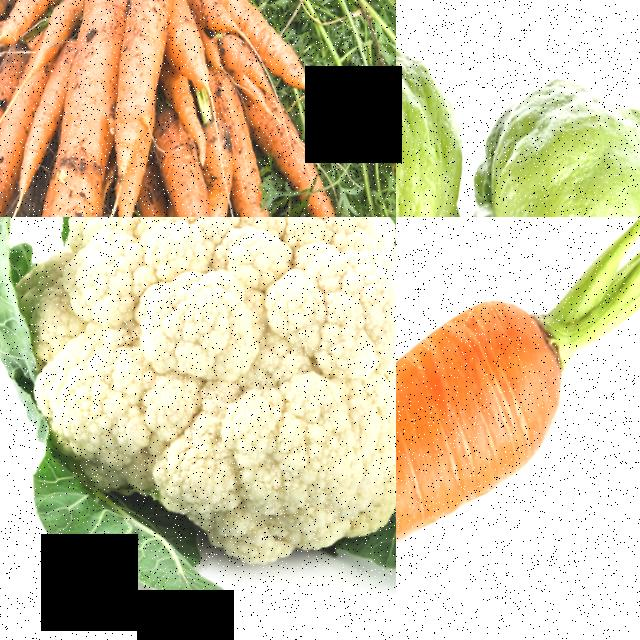carrot: (396, 217, 640, 640), (47, 0, 135, 217), (105, 0, 195, 177), (24, 35, 72, 204), (216, 104, 277, 217), (202, 0, 347, 44), (0, 78, 42, 217)
cauliflower: (0, 217, 396, 599)
chayote: (441, 45, 640, 217), (396, 0, 479, 217)
